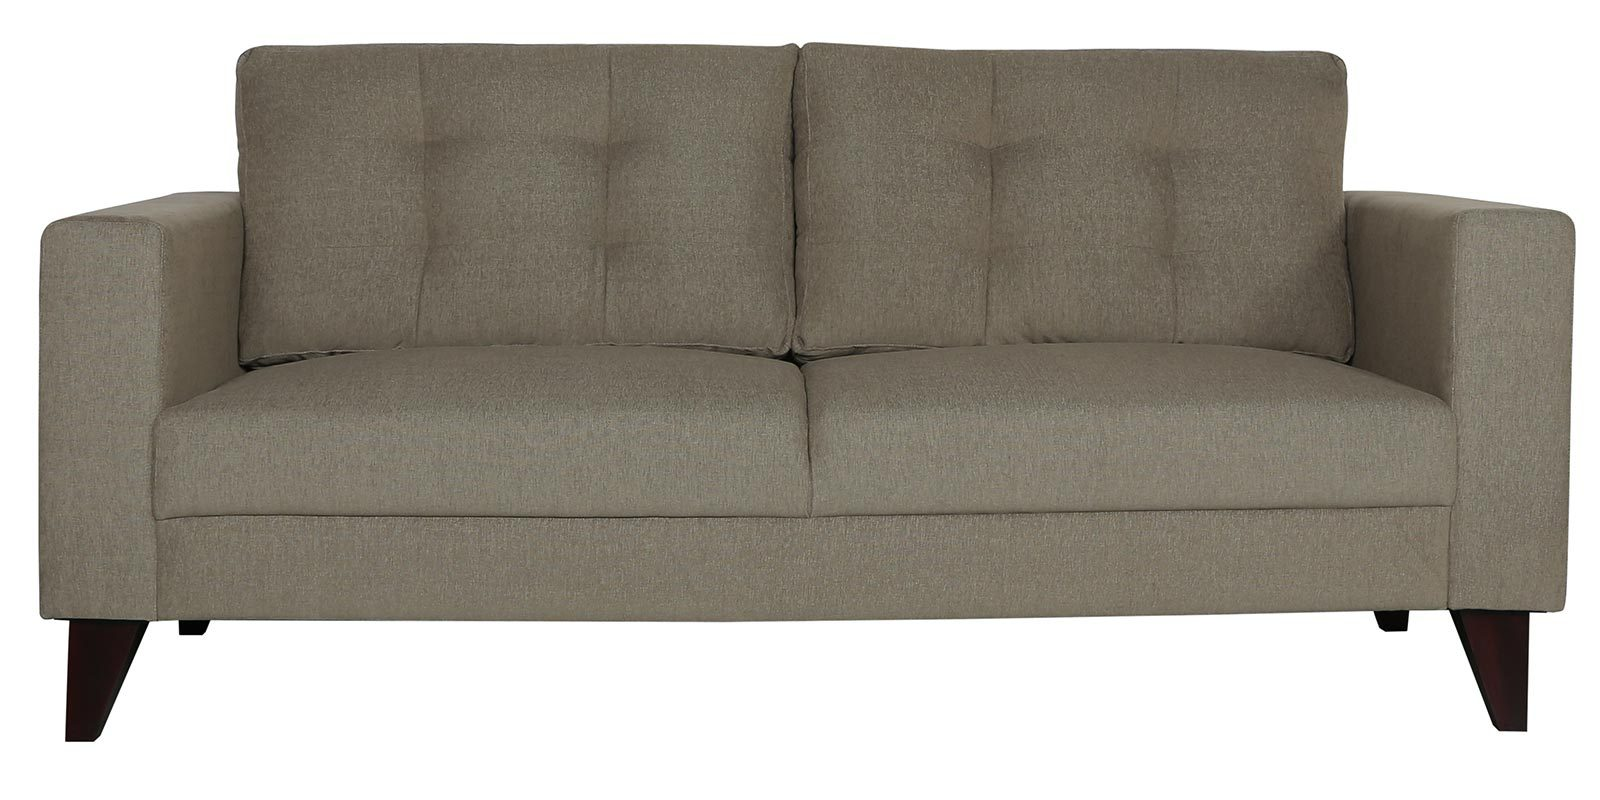Alfredo Three Seater Sofa in Sandy Brown Colour by CasaCraft: (20, 34, 1578, 749)
